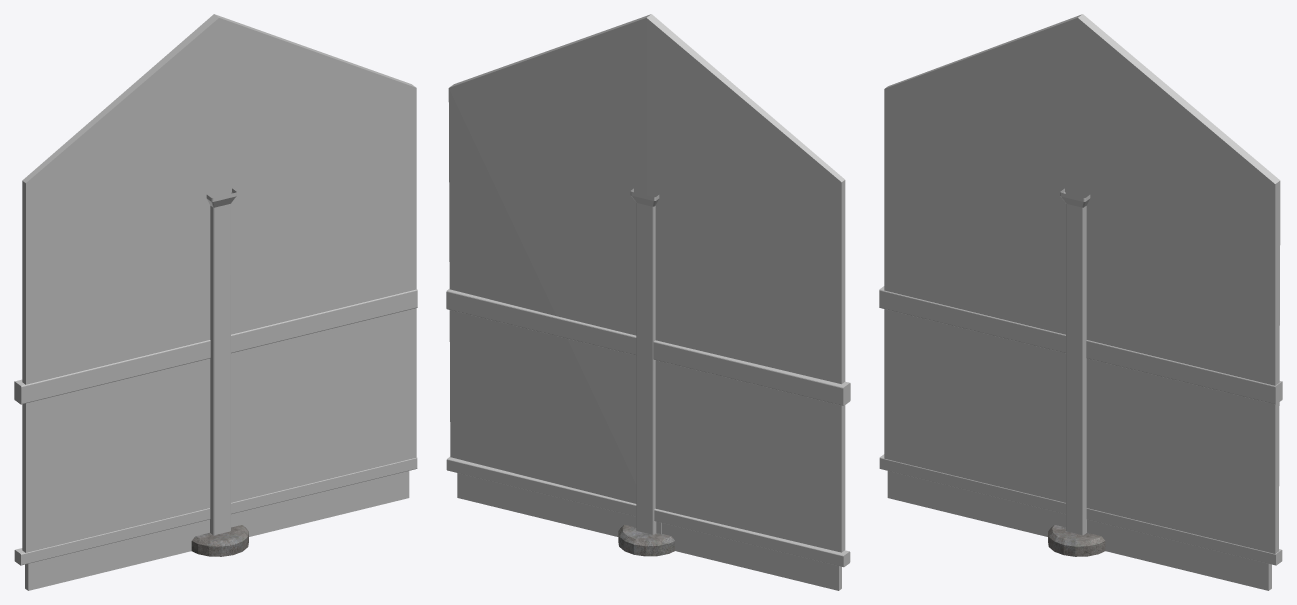
Rendered from SM_Building_Wall_19.FBX.
3 renders of one model, left to right at view 1: azimuth 30°, elevation 25°; view 2: azimuth 150°, elevation 25°; view 3: azimuth 330°, elevation 25°, orthographic.
Visible parts, largest first — view 1: SM_Building_Wall_19; view 2: SM_Building_Wall_19; view 3: SM_Building_Wall_19.
Part boxes in pixels (x1,y1,x2,y2): SM_Building_Wall_19: [14, 14, 417, 590]; SM_Building_Wall_19: [446, 14, 850, 590]; SM_Building_Wall_19: [879, 14, 1282, 590].
Bounding box in the file's own units: 815 × 1035 × 114.
